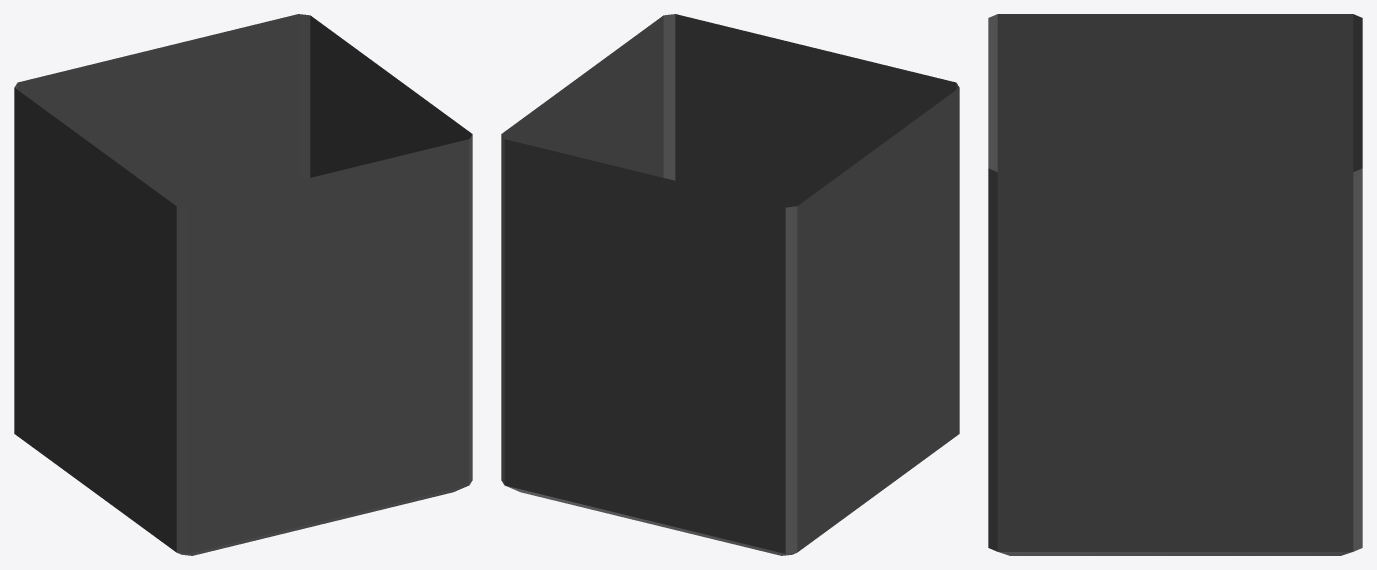
Rendered from StencilSafeInside.fbx.
3 renders of one model, left to right at view 1: azimuth 30°, elevation 25°; view 2: azimuth 150°, elevation 25°; view 3: azimuth 270°, elevation 25°, orthographic. The views are drawn at different scales.
Visible parts, largest first — view 1: SafeInside; view 2: SafeInside; view 3: SafeInside.
Part boxes in pixels (x1,y1,x2,y2): SafeInside: (14, 14, 472, 555); SafeInside: (501, 14, 959, 555); SafeInside: (988, 14, 1362, 555).
Size of the model in its own units: 51.04 by 58.52 by 51.04.
